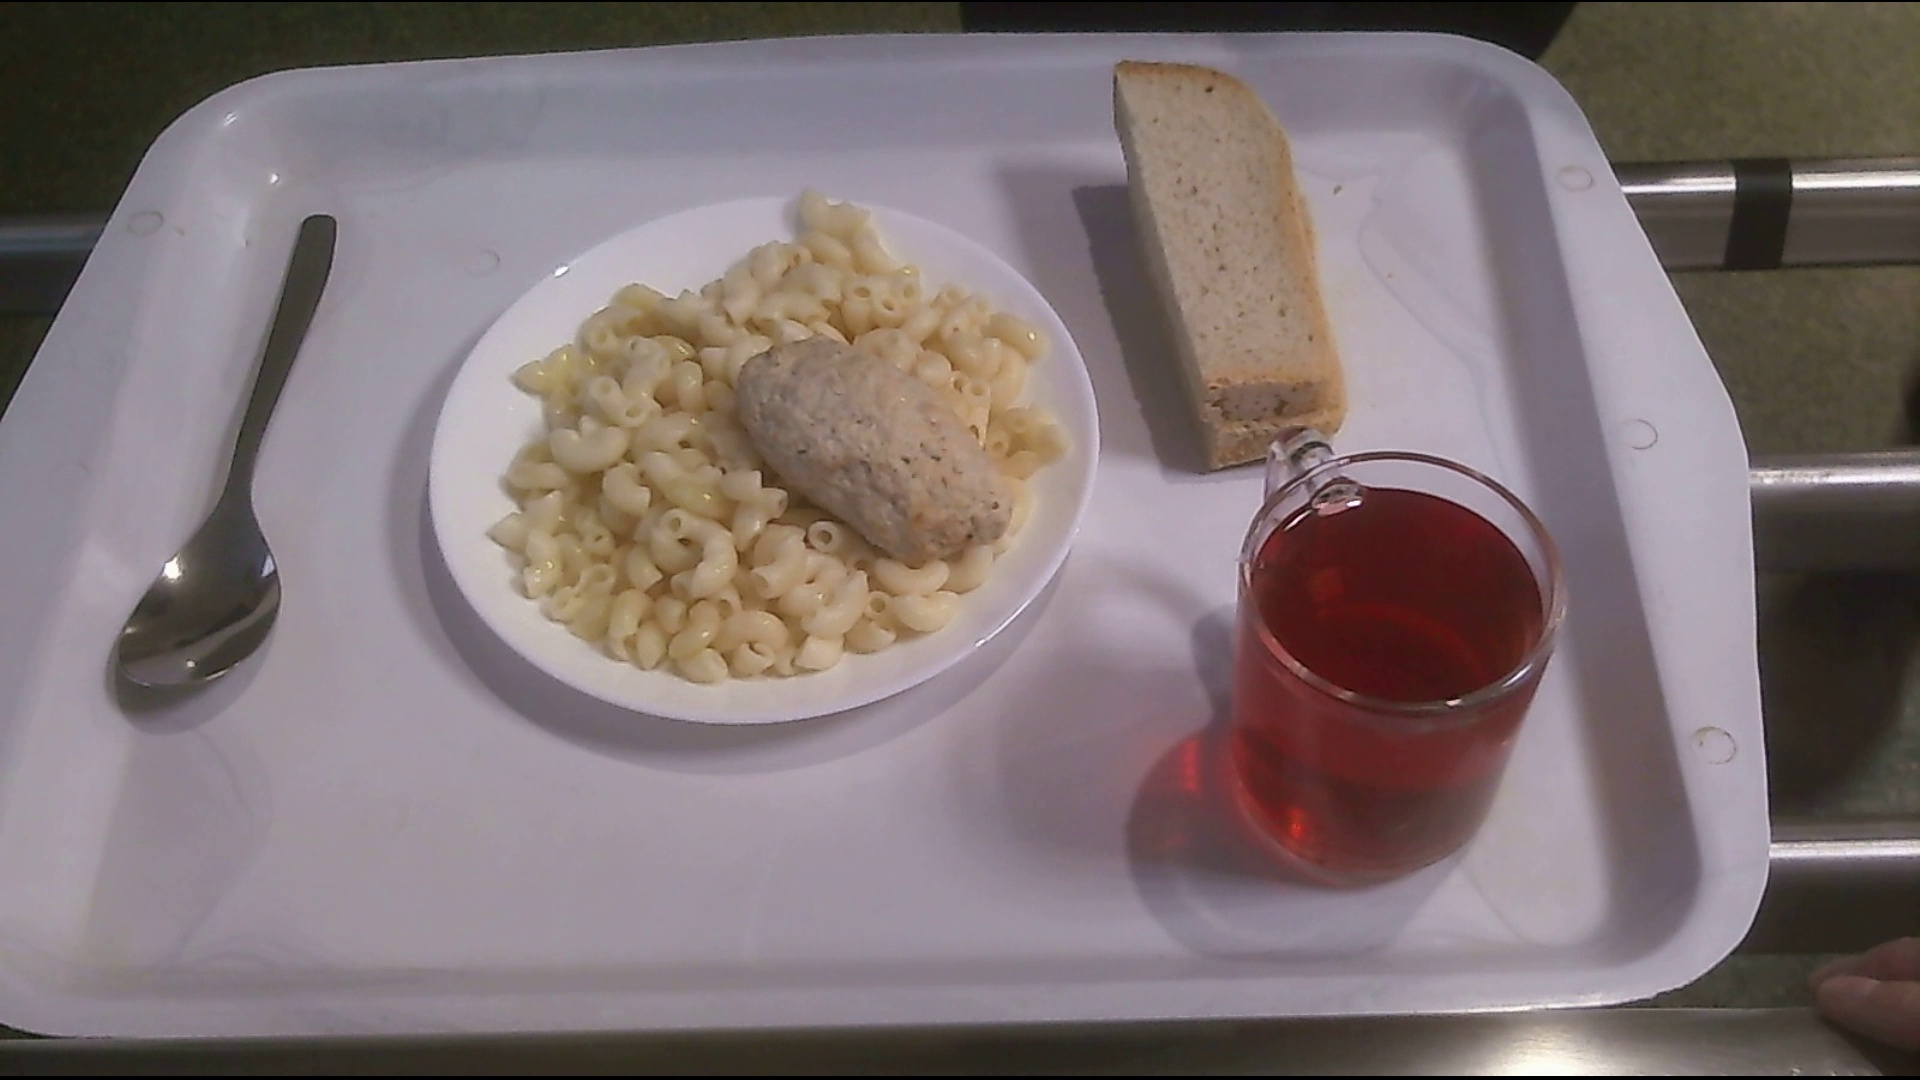cutlery: (125, 200, 338, 700)
drink: (1233, 444, 1571, 891)
other: (1114, 59, 1348, 465)
plate: (438, 196, 1104, 737)
